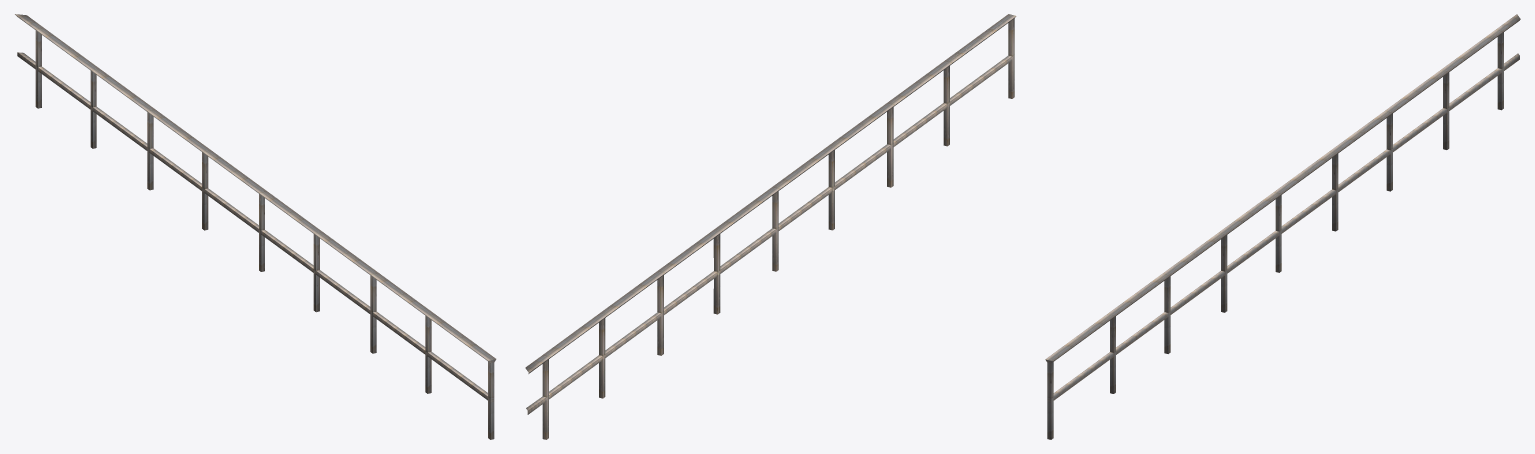
File: M11B_Railing02_A.glb
3 renders of one model, left to right at view 1: azimuth 30°, elevation 25°; view 2: azimuth 150°, elevation 25°; view 3: azimuth 330°, elevation 25°, orthographic. The views are drawn at different scales.
Visible parts, largest first — view 1: M11B_RAILING02_A; view 2: M11B_RAILING02_A; view 3: M11B_RAILING02_A.
Part boxes in pixels (x1,y1,x2,y2): M11B_RAILING02_A: (15,14,496,439); M11B_RAILING02_A: (525,14,1016,439); M11B_RAILING02_A: (1045,14,1520,439).
Bounding box in the file's own units: 0.124 × 1.17 × 12.61.
1 material, 1 textured.
